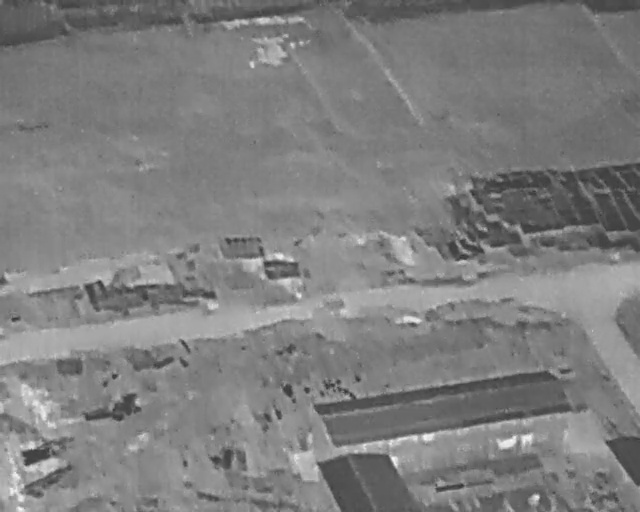Person: (390, 453, 399, 472)
